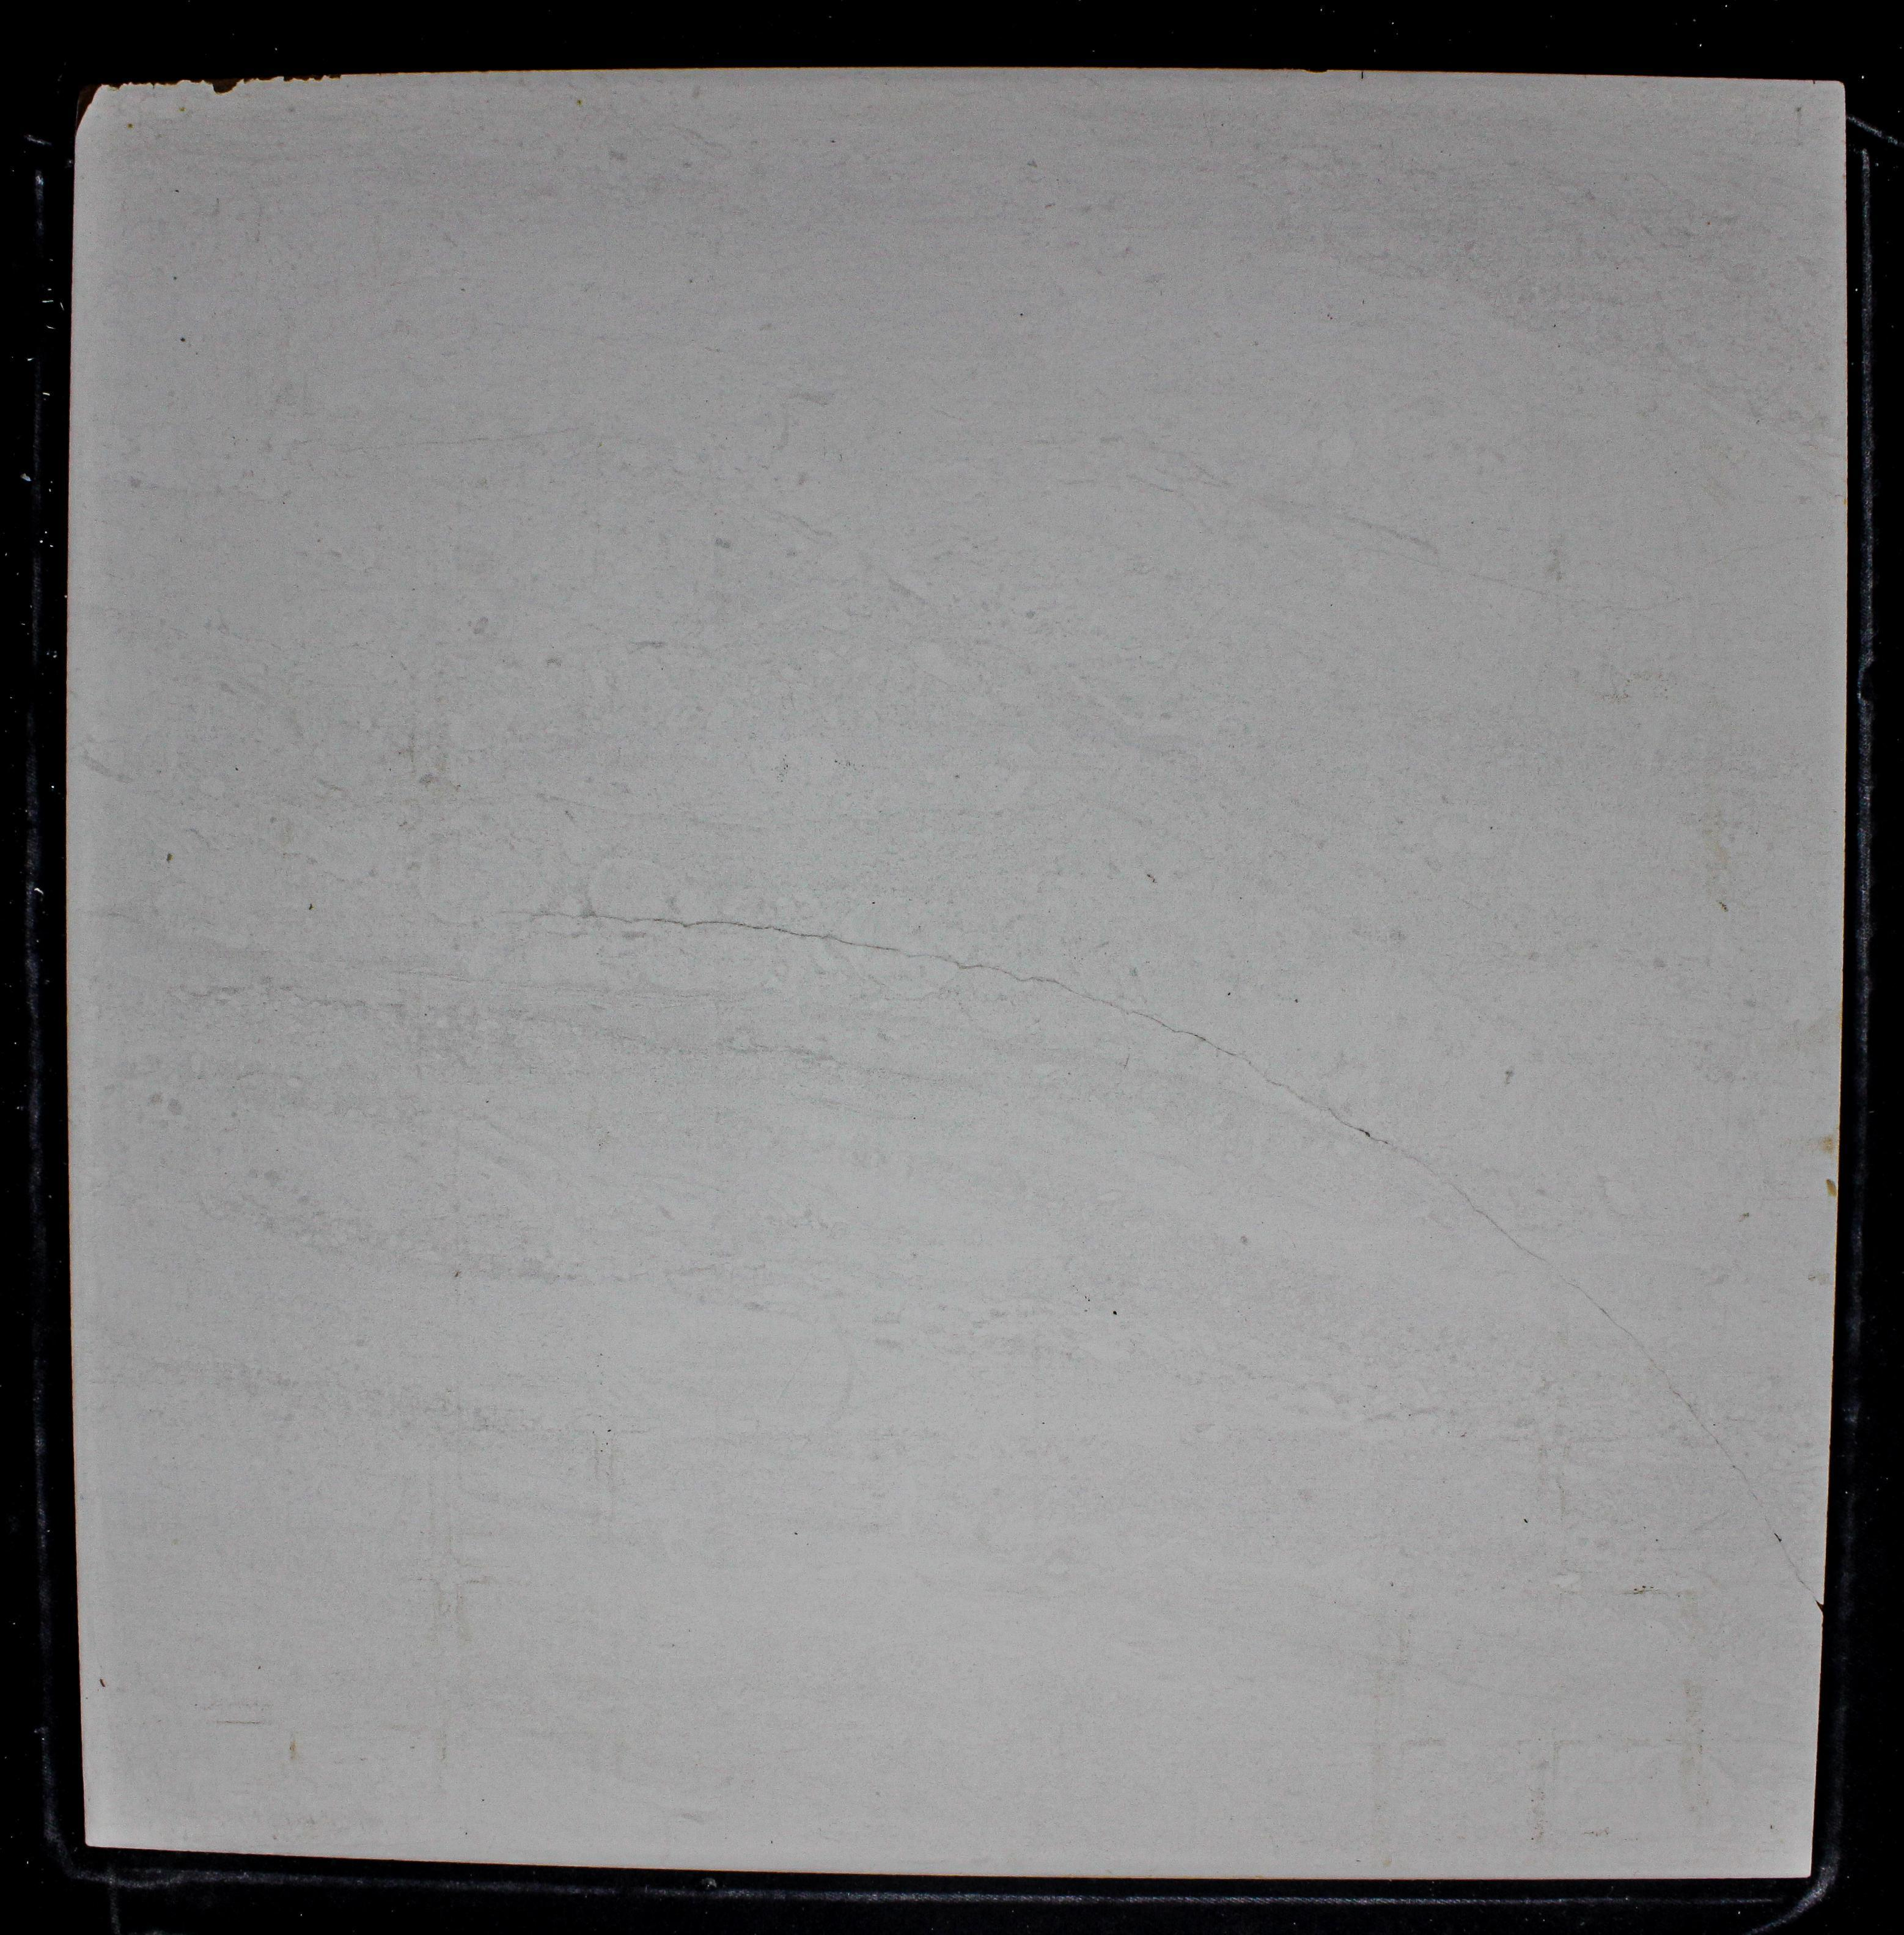edge-chipping: (73, 82, 101, 134), (211, 77, 242, 96)
line: (1602, 1302, 1810, 1592), (1037, 974, 1351, 1124), (593, 905, 1025, 978), (1376, 1133, 1557, 1267)
